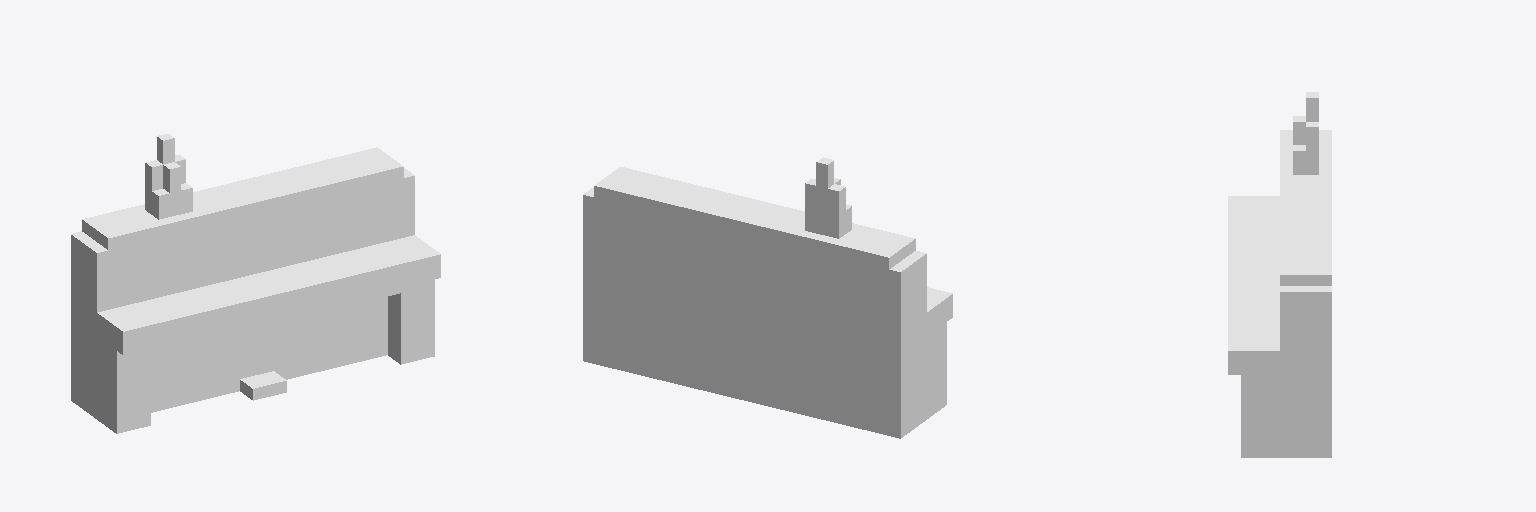
Rendered from piano.obj.
3 views of the same model, side by side, from view 1: azimuth 30°, elevation 25°; view 2: azimuth 150°, elevation 25°; view 3: azimuth 270°, elevation 25° (orthographic).
Visible parts, largest first — view 1: object 1; view 2: object 1; view 3: object 1.
Part boxes in pixels (left/top/right/bottom): object 1: left=71, top=134, right=440, bottom=433; object 1: left=583, top=157, right=952, bottom=438; object 1: left=1228, top=92, right=1331, bottom=457.
Bounding box in the file's own units: 2.8 × 2.1 × 0.8.